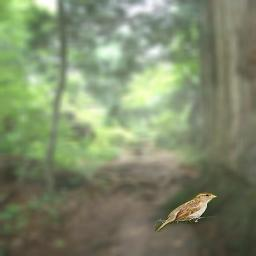Sparrow: (155, 192, 217, 232)
